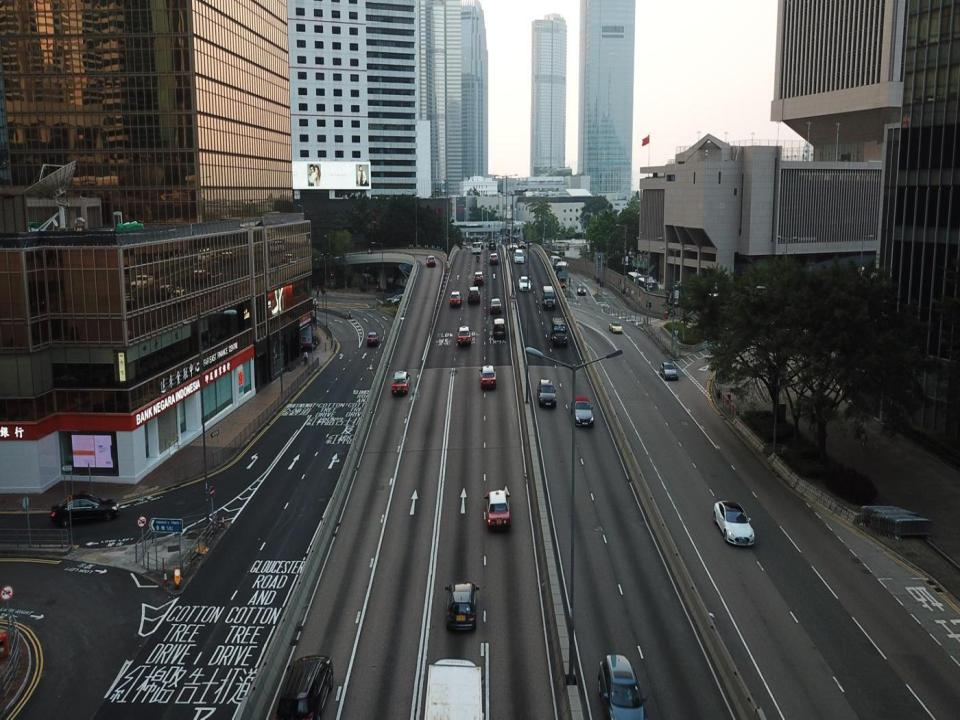bus: (638, 278, 660, 299), (555, 260, 568, 288), (628, 271, 642, 289), (549, 256, 562, 272)
car: (275, 656, 333, 718), (597, 653, 649, 719), (52, 492, 119, 522), (713, 500, 754, 544), (444, 582, 480, 630), (484, 489, 511, 531), (537, 379, 556, 408), (391, 371, 410, 393), (478, 366, 496, 388), (660, 361, 678, 380), (457, 325, 471, 343), (468, 286, 480, 303), (518, 276, 531, 290), (392, 294, 408, 305), (490, 298, 502, 312), (450, 290, 461, 304), (387, 294, 402, 304), (368, 331, 379, 344), (513, 250, 524, 263), (609, 322, 623, 332), (473, 272, 484, 284), (426, 254, 436, 265), (578, 283, 586, 295), (490, 252, 497, 264), (672, 280, 682, 288), (510, 242, 518, 250), (519, 241, 525, 249), (478, 240, 483, 248), (462, 241, 467, 246), (485, 241, 490, 246)
van: (570, 396, 594, 426), (551, 317, 567, 345), (542, 285, 555, 310), (492, 318, 505, 341), (472, 242, 482, 253), (488, 240, 496, 248)
